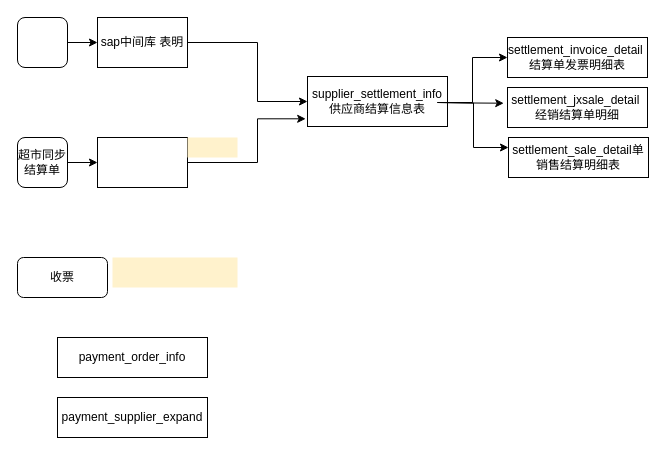
The diagram is 666 pixels wide and 455 high, and some of its shapes have lost their labels. Here are the shapes that lost their labels. From the top down, the centre of each, then its label:
At (42,42): "百货同步结算单".
At (142,162): "os中间库 表明".
At (212,147): "os:多点".
At (174,272): "收票：结算单关联发票生成付款单".
